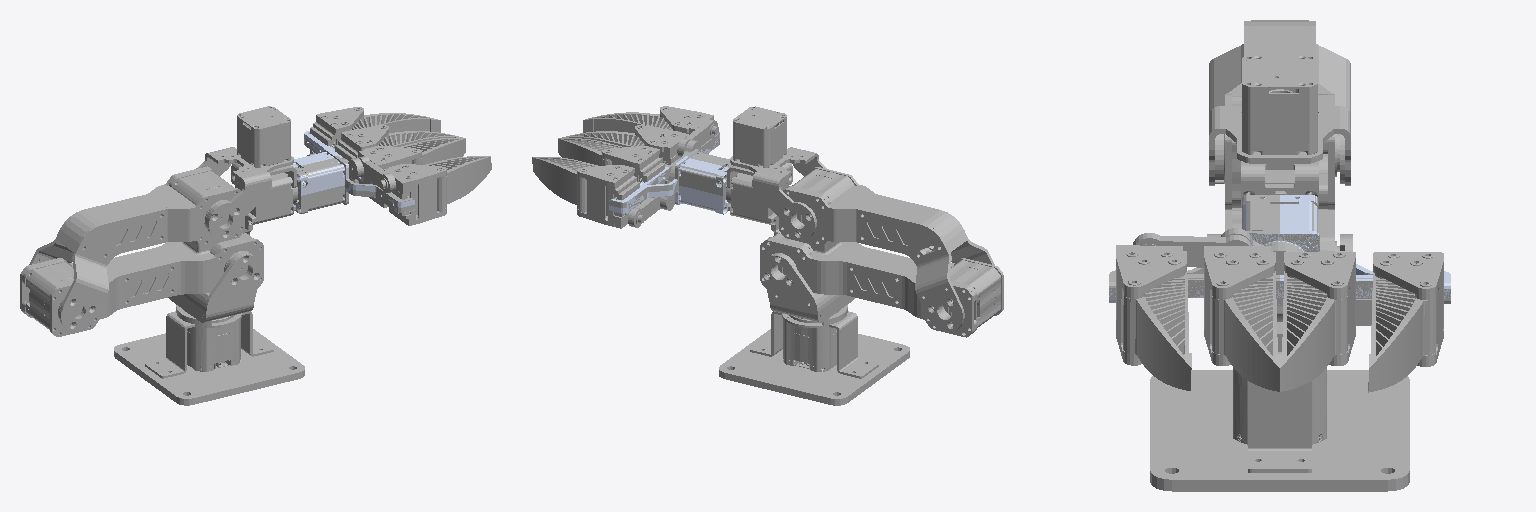
robot.urdf — xlerobot_ht_description:
<?xml version="1.0" encoding="utf-8"?>
  <!-- This URDF was automatically created by SolidWorks to URDF Exporter! Originally created by Stephen Brawner (brawner@gmail.com) 
       Commit Version: 1.6.0-4-g7f85cfe  Build Version: 1.6.7995.38578
       For more information, please see http://wiki.ros.org/sw_urdf_exporter -->
  <robot name="xlerobot_ht_description">
   <mujoco>
     <compiler meshdir="../meshes/" balanceinertia="true" discardvisual="false" />
   </mujoco>
 
    <link name="base_link">
      <inertial>
        <origin xyz="-6.7e-06 -6.477e-05 0.01798916" rpy="0 0 0" />
        <mass value="0.48888809" />
        <inertia ixx="0.00040573" ixy="-2.4e-07" ixz="4.8e-07" iyy="0.00043007" iyz="4.2e-07" izz="0.00059661" />
      </inertial>
      <visual>
        <origin xyz="0 0 0" rpy="0 0 0" />
        <geometry>
          <mesh filename="package://xlerobot_ht_description/meshes/base_link.STL" />
        </geometry>
        <material name="">
          <color rgba="0.75294 0.75294 0.75294 1" />
        </material>
      </visual>
      <collision>
        <origin xyz="0 0 0" rpy="0 0 0" />
        <geometry>
          <mesh filename="package://xlerobot_ht_description/meshes/base_link.STL" />
        </geometry>
      </collision>
    </link>
    <link name="link1">
      <inertial>
        <origin xyz="0.00093765 -0.0003632 0.01772447" rpy="0 0 0" />
        <mass value="0.11213854" />
        <inertia ixx="8.77e-05" ixy="4.9e-07" ixz="-6.96e-06" iyy="4.584e-05" iyz="9.3e-07" izz="8.407e-05" />
      </inertial>
      <visual>
        <origin xyz="0 0 0" rpy="0 0 0" />
        <geometry>
          <mesh filename="package://xlerobot_ht_description/meshes/link1.STL" />
        </geometry>
        <material name="">
          <color rgba="0.75294 0.75294 0.75294 1" />
        </material>
      </visual>
      <collision>
        <origin xyz="0 0 0" rpy="0 0 0" />
        <geometry>
          <mesh filename="package://xlerobot_ht_description/meshes/link1.STL" />
        </geometry>
      </collision>
    </link>
    <joint name="joint1" type="revolute">
      <origin xyz="0 0 0.0509" rpy="0 0 0" />
      <parent link="base_link" />
      <child link="link1" />
      <axis xyz="0 0 1" />
      <limit lower="-2.4" upper="2.4" effort="10" velocity="36" />
    </joint>
    <link name="link2">
      <inertial>
        <origin xyz="-0.07697407 -0.00343256 0.00025998" rpy="0 0 0" />
        <mass value="0.5508467" />
        <inertia ixx="0.00012156" ixy="-0.00000575" ixz="-0.00001053" iyy="0.00298168" iyz="-0.00000077" izz="0.00302744" />
      </inertial>
      <visual>
        <origin xyz="0 0 0" rpy="0 0 0" />
        <geometry>
          <mesh filename="package://xlerobot_ht_description/meshes/link2.STL" />
        </geometry>
        <material name="">
          <color rgba="0.75294 0.75294 0.75294 1" />
        </material>
      </visual>
      <collision>
        <origin xyz="0 0 0" rpy="0 0 0" />
        <geometry>
          <mesh filename="package://xlerobot_ht_description/meshes/link2.STL" />
        </geometry>
      </collision>
    </link>
    <joint name="joint2" type="revolute">
      <origin xyz="0.014559 0 0.043" rpy="0 0 0" />
      <parent link="link1" />
      <child link="link2" />
      <axis xyz="0 1 0" />
      <limit lower="0" upper="3.4" effort="10" velocity="36" />
    </joint>
    <link name="link3">
      <inertial>
        <origin xyz="0.07 -0.00283703 0.04500842" rpy="0 0 0" />
        <mass value="0.20" />
        <inertia ixx="0.00016726" ixy="0.00002980" ixz="-0.00017218" iyy="0.00094995" iyz="0.00000440" izz="0.00094438" />
      </inertial>
      <visual>
        <origin xyz="0 0 0" rpy="0 0 0" />
        <geometry>
          <mesh filename="package://xlerobot_ht_description/meshes/link3.STL" />
        </geometry>
        <material name="">
          <color rgba="0.75294 0.75294 0.75294 1" />
        </material>
      </visual>
      <collision>
        <origin xyz="0 0 0" rpy="0 0 0" />
        <geometry>
          <mesh filename="package://xlerobot_ht_description/meshes/link3.STL" />
        </geometry>
      </collision>
    </link>
    <joint name="joint3" type="revolute">
      <origin xyz="-0.156 0 0" rpy="0 0 0" />
      <parent link="link2" />
      <child link="link3" />
      <axis xyz="0 -1 0" />
      <limit lower="0" upper="3.4" effort="10" velocity="36" />
    </joint>
    <link name="link4">
      <inertial>
        <origin xyz="0.04660916 -4.35e-05 0.03826516" rpy="0 0 0" />
        <mass value="0.194896" />
        <inertia ixx="0.00008403" ixy="0.00000039" ixz="-0.00005214" iyy="0.00011718" iyz="0.00000047" izz="0.00010438" />
      </inertial>
      <visual>
        <origin xyz="0 0 0" rpy="0 0 0" />
        <geometry>
          <mesh filename="package://xlerobot_ht_description/meshes/link4.STL" />
        </geometry>
        <material name="">
          <color rgba="0.75294 0.75294 0.75294 1" />
        </material>
      </visual>
      <collision>
        <origin xyz="0 0 0" rpy="0 0 0" />
        <geometry>
          <mesh filename="package://xlerobot_ht_description/meshes/link4.STL" />
        </geometry>
      </collision>
    </link>
    <joint name="joint4" type="revolute">
      <origin xyz="0.138 0 0.05" rpy="0 0 0" />
      <parent link="link3" />
      <child link="link4" />
      <axis xyz="0 -1 0" />
      <limit lower="-1.7" upper="1.7" effort="10" velocity="36" />
    </joint>
    <link name="link5">
      <inertial>
        <origin xyz="0.00285059 -9.067e-05 -0.02985903" rpy="0 0 0" />
        <mass value="0.17547184" />
        <inertia ixx="2.152e-05" ixy="0.0" ixz="0.0" iyy="2.409e-05" iyz="1.55e-06" izz="-7e-08" />
      </inertial>
      <visual>
        <origin xyz="0 0 0" rpy="0 0 0" />
        <geometry>
          <mesh filename="package://xlerobot_ht_description/meshes/link5.STL" />
        </geometry>
        <material name="">
          <color rgba="0.75294 0.75294 0.75294 1" />
        </material>
      </visual>
      <collision>
        <origin xyz="0 0 0" rpy="0 0 0" />
        <geometry>
          <mesh filename="package://xlerobot_ht_description/meshes/link5.STL" />
        </geometry>
      </collision>
    </link>
    <joint name="joint5" type="revolute">
      <origin xyz="0.055 0 0.030878" rpy="0 0 0" />
      <parent link="link4" />
      <child link="link5" />
      <axis xyz="0 0 -1" />
      <limit lower="-1.7" upper="1.7" effort="3.7" velocity="60" />
    </joint>
   <link name="link6">
     <inertial>
       <origin xyz="0.00491171194554647 3.24724189844782E-12 0.000236602402152258" rpy="0 0 0" />
       <mass value="0.0123808389352235" />
       <inertia ixx="9.44576753568983E-07" ixy="-3.07532048036139E-17" ixz="-9.06869357885819E-10" iyy="6.41459660763183E-07" iyz="4.1681110231471E-16" izz="5.96432193039218E-07" />
     </inertial>
     <visual>
       <origin xyz="0 0 0" rpy="0 0 0" />
       <geometry>
         <mesh filename="package://xlerobot_ht_description/meshes/link6.STL" />
       </geometry>
       <material name="">
         <color rgba="0.752941176470588 0.752941176470588 0.752941176470588 1" />
       </material>
     </visual>
     <collision>
       <origin xyz="0 0 0" rpy="0 0 0" />
       <geometry>
         <mesh filename="package://xlerobot_ht_description/meshes/link6.STL" />
       </geometry>
     </collision>
   </link>
   <joint name="joint6" type="revolute">
     <origin xyz="0.0185999999999977 0 -0.0330000000000016" rpy="0 0 0" />
     <parent link="link5" />
     <child link="link6" />
     <axis xyz="1 0 0" />
     <limit lower="-3.14" upper="3.14" effort="3.7" velocity="60" />
   </joint>
      <link name="L_finger">
     <inertial>
       <origin xyz="-0.0665513053307253 0.0168637833221042 -0.000510235194076225" rpy="0 0 0" />
       <mass value="0.127457990511979" />
       <inertia ixx="2.28803355389149E-05" ixy="-4.20099870615684E-06" ixz="3.42841892362126E-07" iyy="5.15650351903207E-05" iyz="-5.67310158184507E-10" izz="4.6498598079908E-05" />
     </inertial>
     <visual>
       <origin xyz="0 0 0" rpy="0 0 0" />
       <geometry>
         <mesh filename="package://xlerobot_ht_description/meshes/L_finger.STL" />
       </geometry>
       <material name="">
         <color rgba="0.752941176470588 0.752941176470588 0.752941176470588 1" />
       </material>
     </visual>
     <collision>
       <origin xyz="0 0 0" rpy="0 0 0" />
       <geometry>
         <mesh filename="package://xlerobot_ht_description/meshes/L_finger.STL" />
       </geometry>
     </collision>
   </link>
   <joint name="L_finger_joint" type="prismatic">
     <origin xyz="0.165 0 0" rpy="0 0 0" />
     <parent link="link6" />
     <child link="L_finger" />
     <axis xyz="0 1 0" />
     <limit lower="0" upper="0.04" effort="0" velocity="0" />
   </joint>
   <link name="R_finger">
     <inertial>
       <origin xyz="-0.0665513053302189 -0.0168637833220831 0.000510464525271231" rpy="0 0 0" />
       <mass value="0.127457990512492" />
       <inertia ixx="2.28803355388256E-05" ixy="4.20099870624986E-06" ixz="-3.42841892601057E-07" iyy="5.15650351948177E-05" iyz="-5.67310171384371E-10" izz="4.64985980845201E-05" />
     </inertial>
     <visual>
       <origin xyz="0 0 0" rpy="0 0 0" />
       <geometry>
         <mesh filename="package://xlerobot_ht_description/meshes/R_finger.STL" />
       </geometry>
       <material name="">
         <color rgba="0.752941176470588 0.752941176470588 0.752941176470588 1" />
       </material>
     </visual>
     <collision>
       <origin xyz="0 0 0" rpy="0 0 0" />
       <geometry>
         <mesh filename="package://xlerobot_ht_description/meshes/R_finger.STL" />
       </geometry>
     </collision>
   </link>
   <joint name="R_finger_joint" type="prismatic">
     <origin xyz="0.165 0 0" rpy="0 0 0" />
     <parent link="link6" />
     <child link="R_finger" />
     <axis xyz="0 -1 0" />
     <limit lower="0" upper="0.04" effort="0" velocity="0" />
     <mimic joint="L_finger_joint" multiplier="1" offset="0" />
   </joint>
   <link name="gripper_center">
     <inertial>
       <origin xyz="-0.123183748651091 -4.83923293203893E-05 -3.75244690079823E-05" rpy="0 0 0" />
       <mass value="0.0969304971507011" />
       <inertia ixx="9.06334704672063E-05" ixy="2.21890810267114E-09" ixz="-4.10704620371571E-09" iyy="1.13202586691018E-05" iyz="4.83663479833145E-08" izz="8.43793149524868E-05" />
     </inertial>
     <visual>
       <origin xyz="0 0 0" rpy="0 0 0" />
       <geometry>
         <mesh filename="package://xlerobot_ht_description/meshes/gripper_center.STL" />
       </geometry>
       <material name="">
         <color rgba="0.866666666666667 0.909803921568627 1 1" />
       </material>
     </visual>
     <collision>
       <origin xyz="0 0 0" rpy="0 0 0" />
       <geometry>
         <mesh filename="package://xlerobot_ht_description/meshes/gripper_center.STL" />
       </geometry>
     </collision>
   </link>
   <joint name="gripper_center_joint" type="fixed">
     <origin xyz="0.165 0 0" rpy="0 0 0" />
     <parent link="link6" />
     <child link="gripper_center" />
     <axis xyz="0 0 0" />
   </joint>
 </robot>

--- Render facts (derived) ---
3 views of the same robot in one strip: view 1: azimuth 30°, elevation 25°; view 2: azimuth 150°, elevation 25°; view 3: azimuth 270°, elevation 25° (orthographic).
Robot: xlerobot_ht_description — 10 links, 9 joints (6 revolute, 2 prismatic, 1 fixed); root link base_link; default pose: all joints at 0.
Visible links, largest first — view 1: link3, base_link, link2, link6, link4, link1, R_finger, link5, gripper_center, L_finger; view 2: link3, base_link, link6, link2, link4, link1, L_finger, gripper_center, link5, R_finger; view 3: base_link, link6, link4, R_finger, L_finger, link3, link5, gripper_center, link2.
Link boxes in pixels (x1=…): link3: x1=29, y1=166, x2=244, y2=331; base_link: x1=114, y1=305, x2=304, y2=405; link2: x1=20, y1=233, x2=263, y2=336; link6: x1=293, y1=107, x2=491, y2=225; link4: x1=196, y1=106, x2=293, y2=238; link1: x1=168, y1=252, x2=261, y2=322; R_finger: x1=358, y1=138, x2=465, y2=207; link5: x1=231, y1=163, x2=296, y2=234; gripper_center: x1=291, y1=131, x2=414, y2=213; L_finger: x1=335, y1=125, x2=462, y2=182; link3: x1=779, y1=167, x2=994, y2=331; base_link: x1=719, y1=305, x2=909, y2=405; link6: x1=532, y1=106, x2=732, y2=228; link2: x1=760, y1=233, x2=1003, y2=337; link4: x1=730, y1=106, x2=826, y2=238; link1: x1=762, y1=253, x2=854, y2=322; L_finger: x1=558, y1=138, x2=664, y2=203; gripper_center: x1=609, y1=134, x2=729, y2=214; link5: x1=727, y1=163, x2=792, y2=235; R_finger: x1=558, y1=125, x2=688, y2=183; base_link: x1=1150, y1=368, x2=1409, y2=491; link6: x1=1109, y1=191, x2=1450, y2=392; link4: x1=1209, y1=55, x2=1350, y2=185; R_finger: x1=1204, y1=246, x2=1279, y2=391; L_finger: x1=1280, y1=252, x2=1355, y2=391; link3: x1=1209, y1=20, x2=1350, y2=209; link5: x1=1241, y1=161, x2=1318, y2=206; gripper_center: x1=1109, y1=195, x2=1450, y2=304; link2: x1=1225, y1=208, x2=1336, y2=321.
Bounding box of the posed robot: 0.4057 × 0.1581 × 0.2109 m (x, y, z).
Meshes: 10 distinct files referenced, 10 mesh visuals loaded (10 binary STL).
